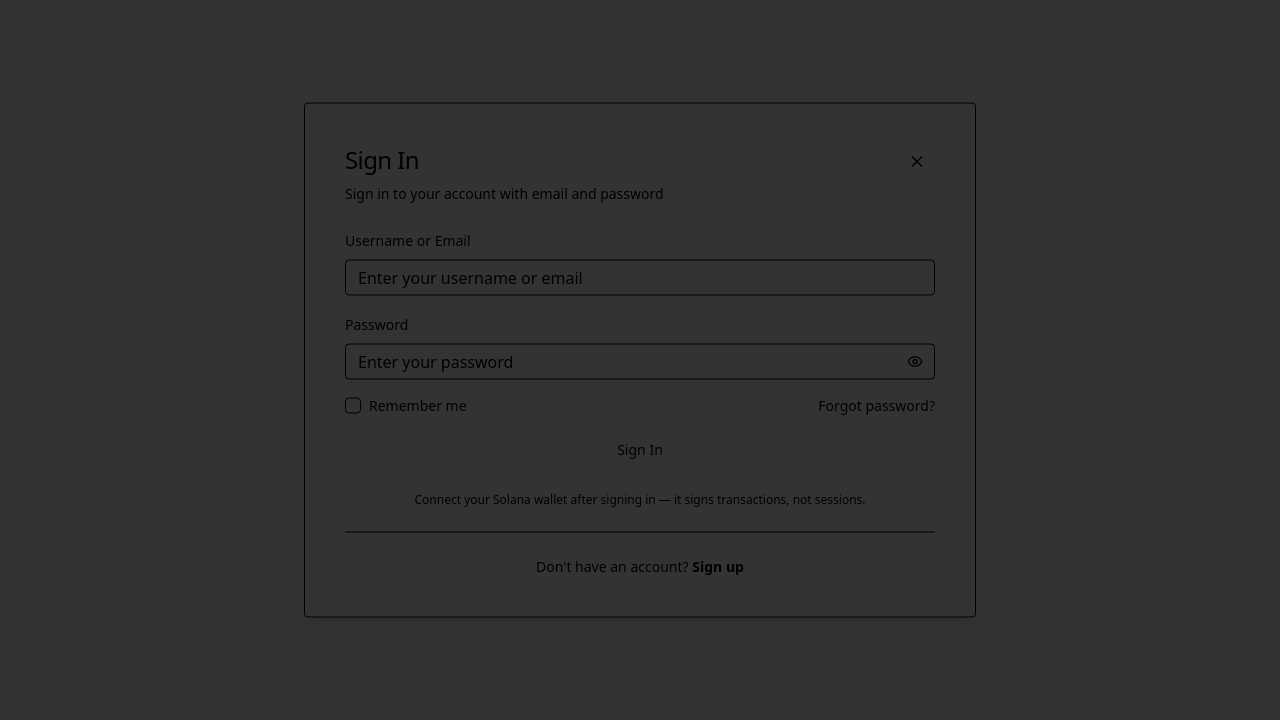
WalletModal email sign-in failure › keeps the modal open and shows the error inline on invalid credentials
This screenshot has width=1280, height=720.
In the field labelled "Username or Email": (640, 278) [345, 260, 935, 296], type "testuser"
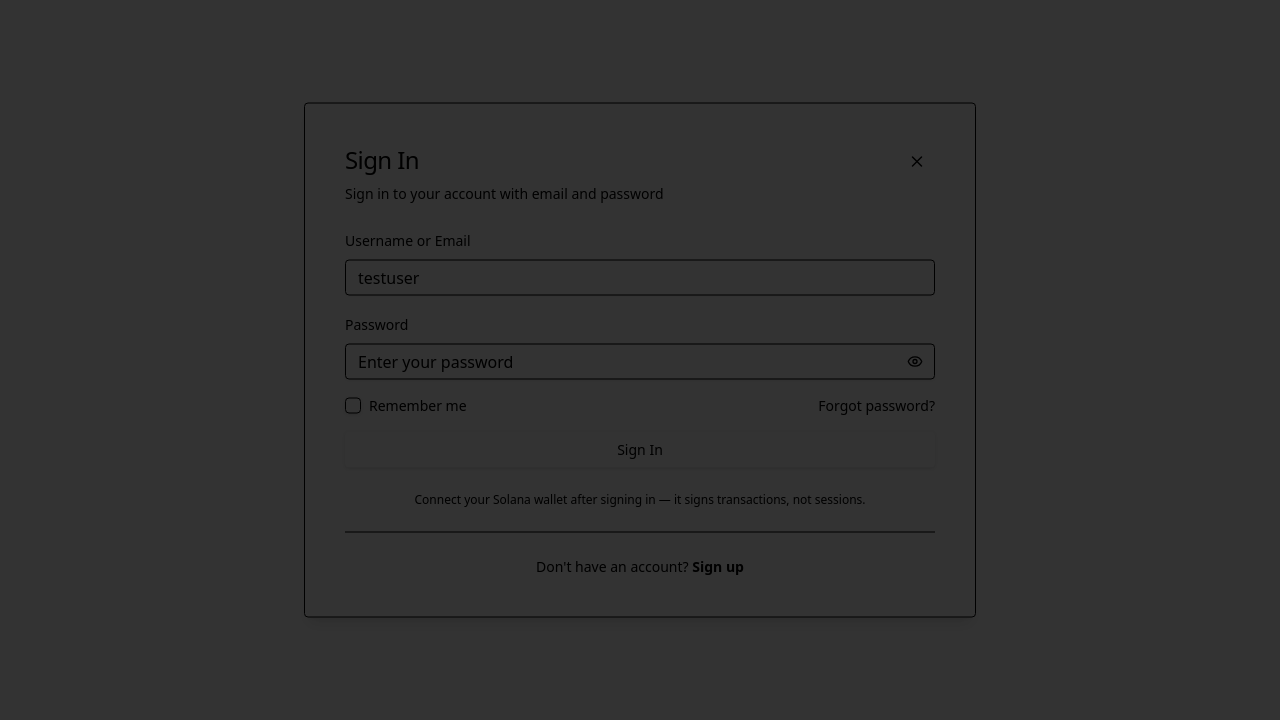
In the password field labelled "Password": (640, 362) [345, 344, 935, 380], type "wrongpassword1!"
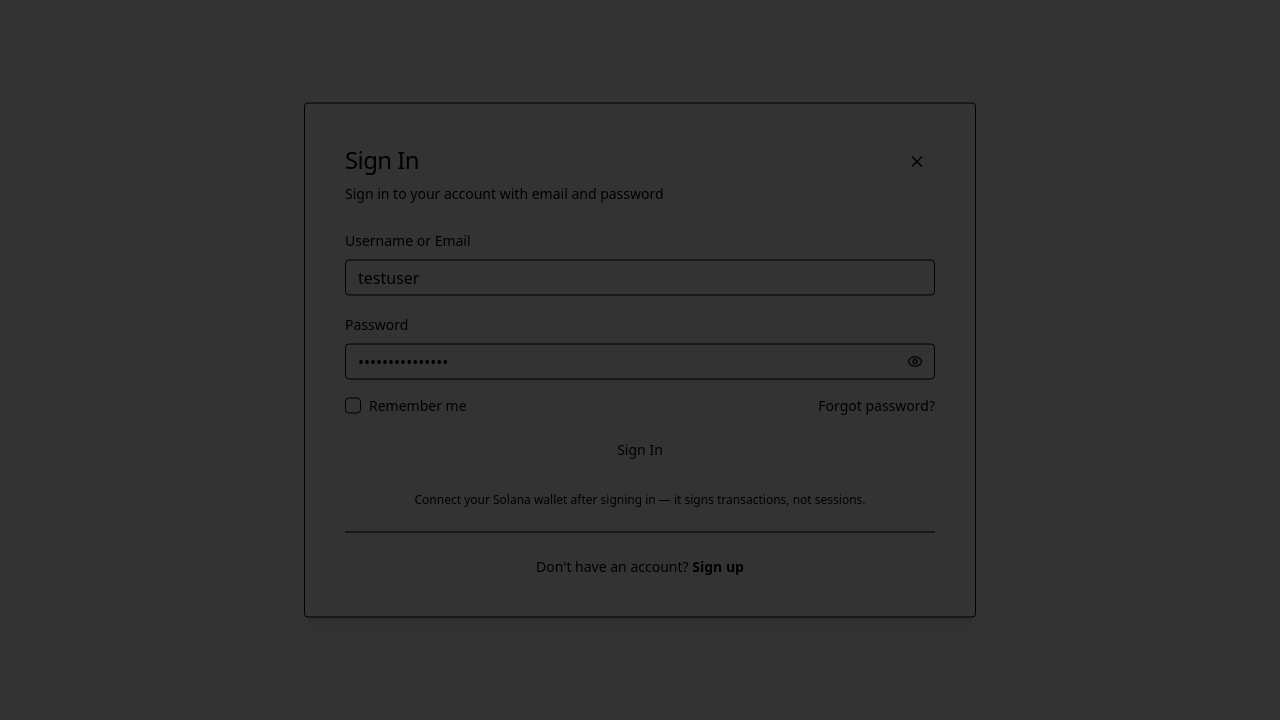
Click the button "Sign In": (640, 450) [345, 432, 935, 468]
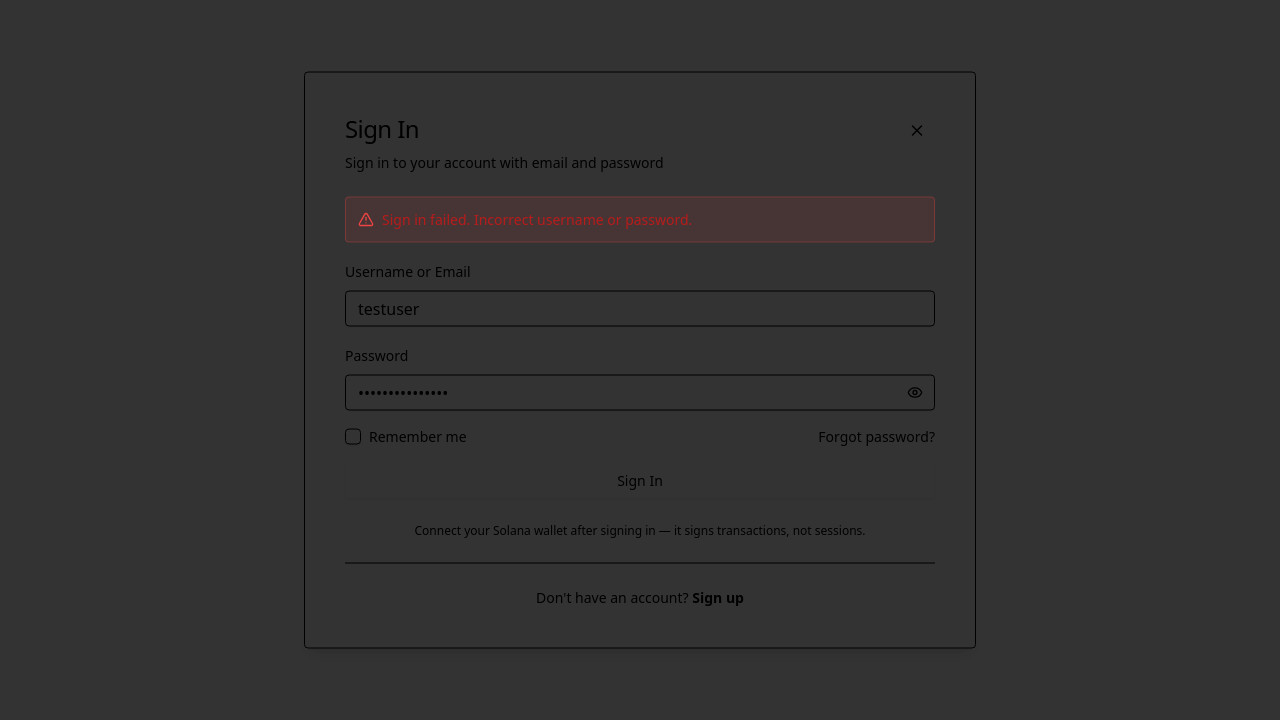
Expected: the message shows "Sign in failed", [382, 210, 470, 228]
Expected: the message shows "Incorrect username or password.", [474, 210, 692, 228]
